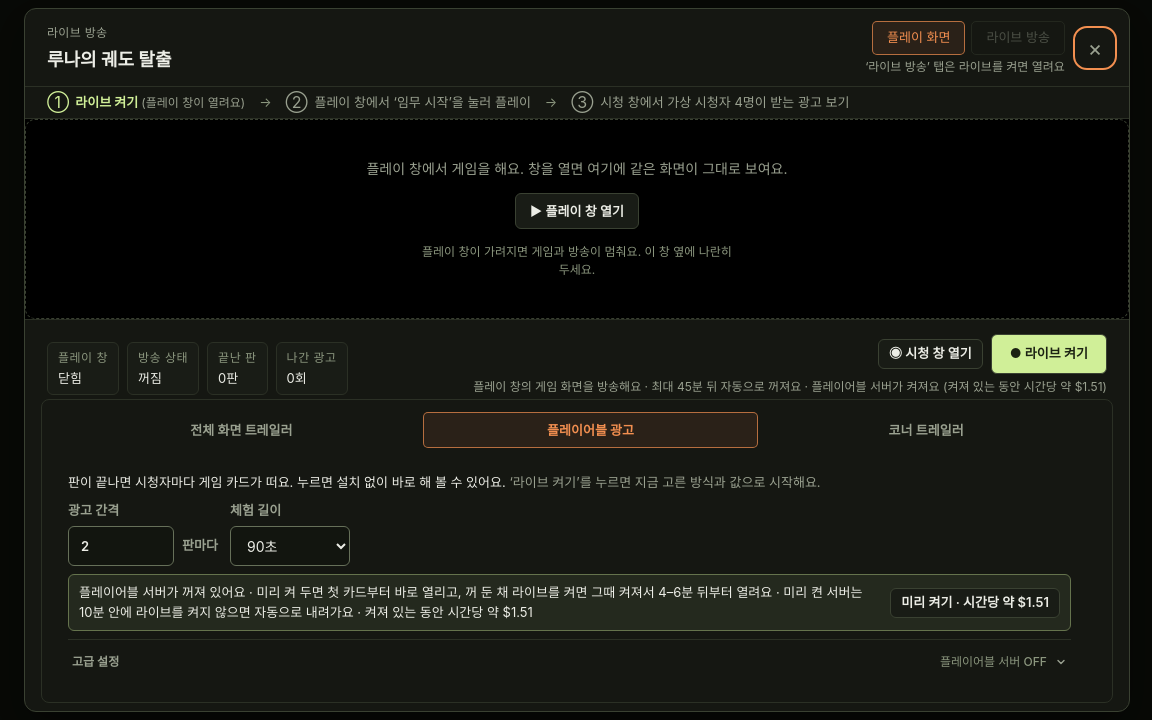
Scenario: 미리 켜기 says what the server answered, not what was pressed (new finding 3, R20-06) › while the answer is on its way the button says so and takes no second press
This screenshot has width=1152, height=720.
Click the button "미리 켜기 · 시간당 약 $1.51": click(975, 602) left=890, top=588, right=1060, bottom=618
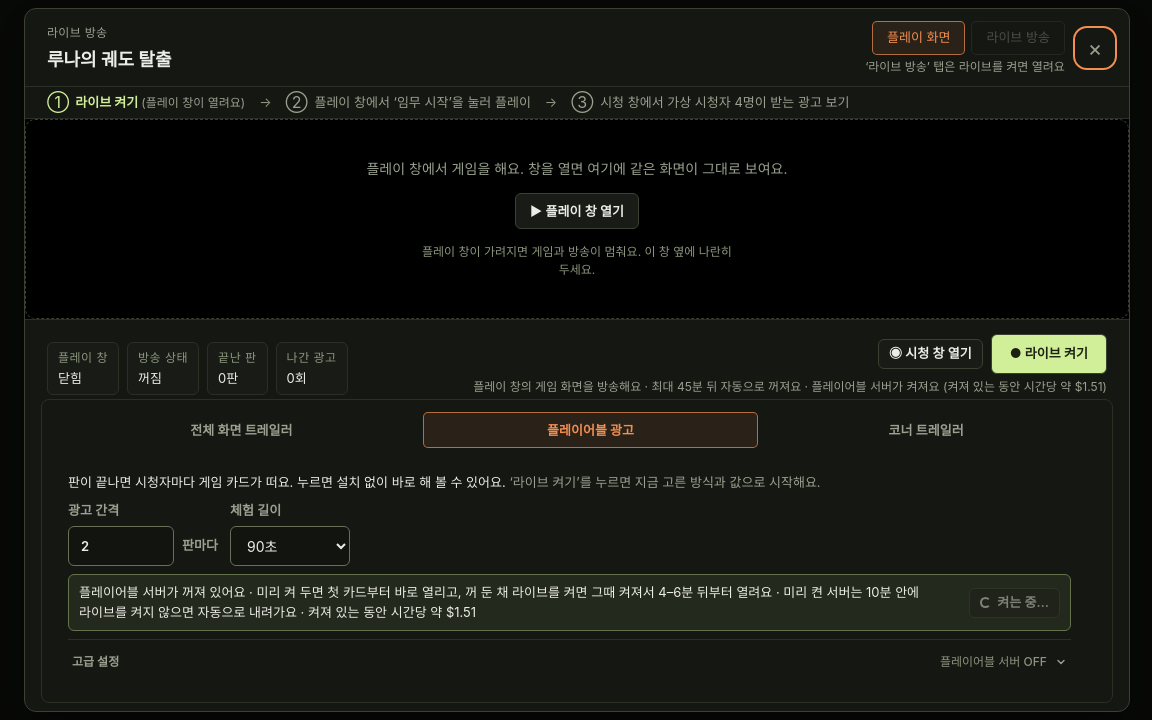
Expected: the message with class "standby-line" shows "플레이어블 서버가 꺼져 있어요", left=79, top=584, right=919, bottom=620
Expected: the button "켜는 중…" is shown
Click the button "켜는 중…": click(1015, 602) left=969, top=588, right=1060, bottom=618
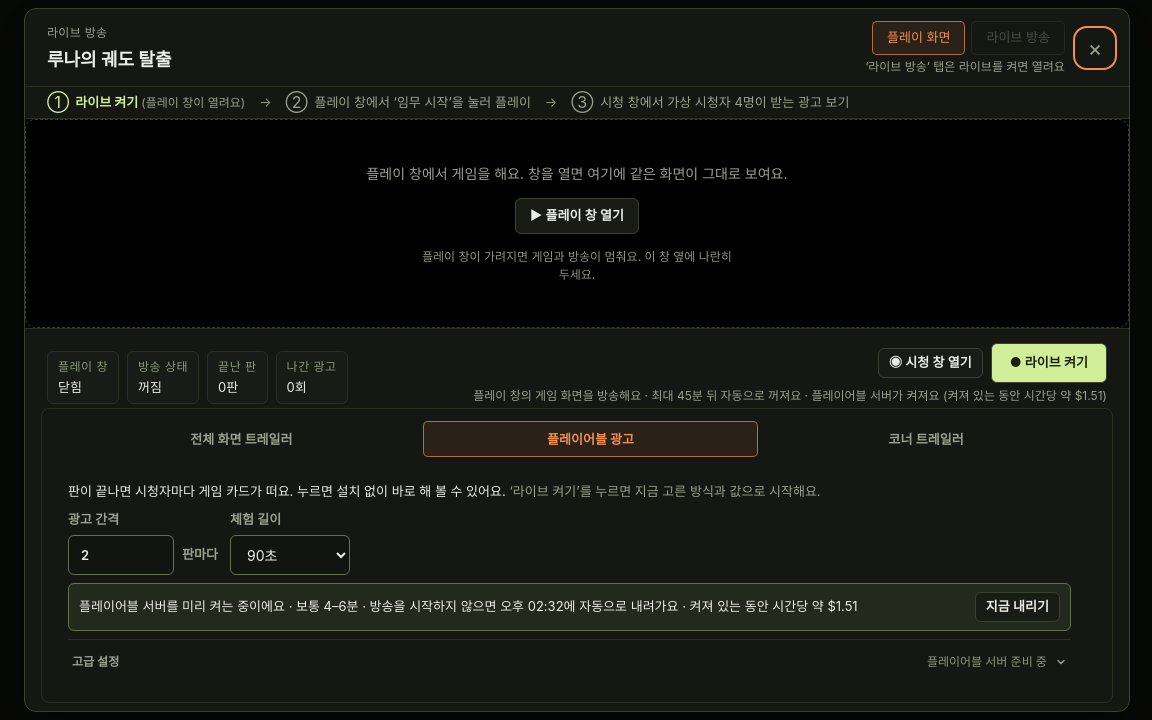
Expected: the message with class "standby-line" shows "플레이어블 서버를 미리 켜는 중이에요", left=79, top=598, right=858, bottom=614
Expected: the button "지금 내리기" is shown, left=975, top=592, right=1060, bottom=622
